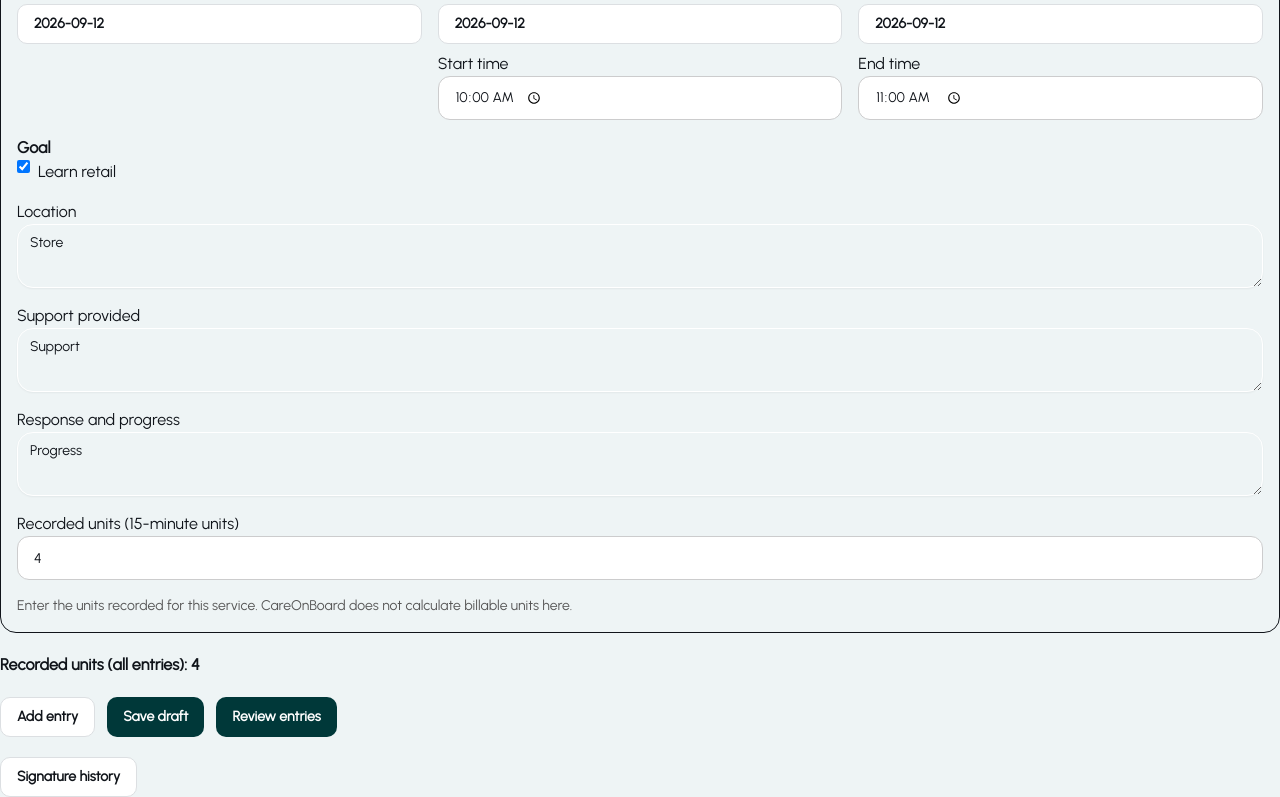
Test: clears consent and refetches context after a definitive signing conflict
(page scrolled)
Check: the text box showing "Support" is shown, box 17,328 -> 1263,392
Click the button "Review entries": point(277, 717) 216,697 -> 337,737
(page scrolled)
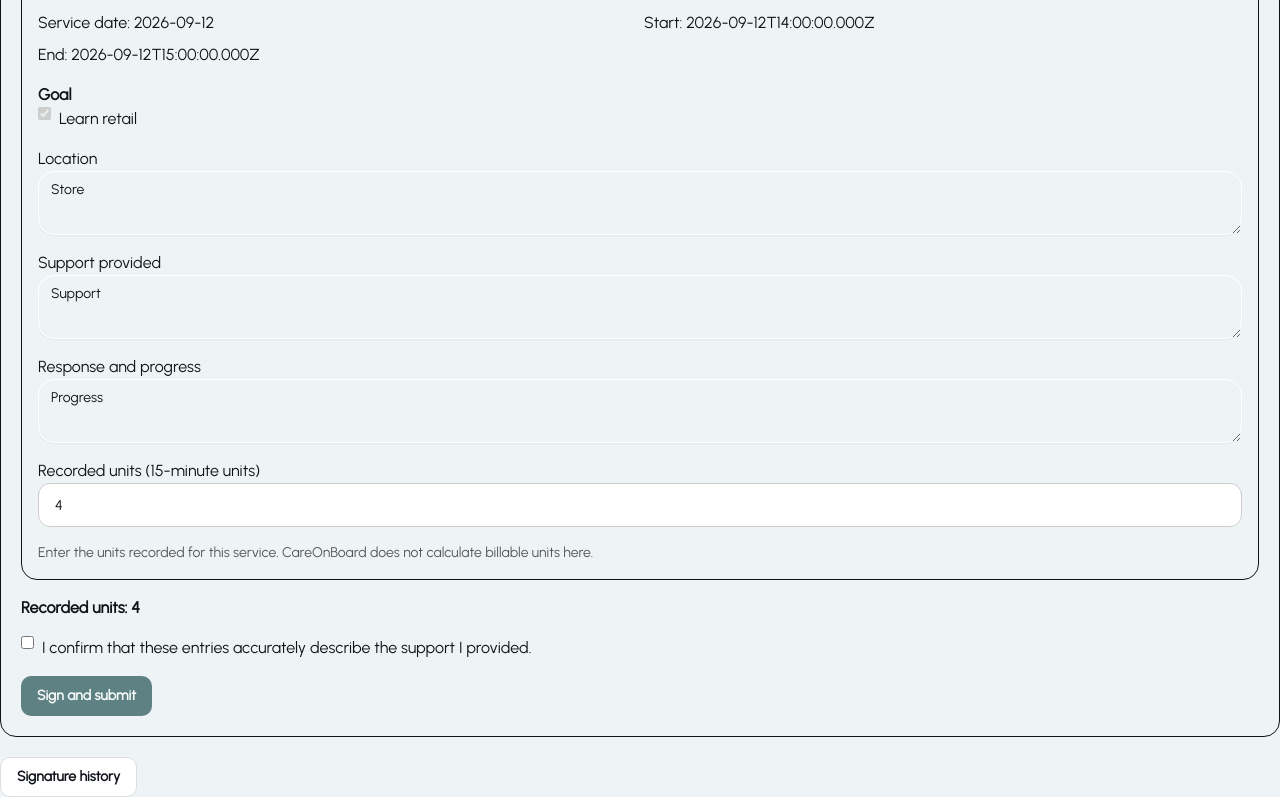
Click the checkbox labelled "I confirm that these entries accurately describe the support I provided.": point(28, 642) 21,636 -> 34,649
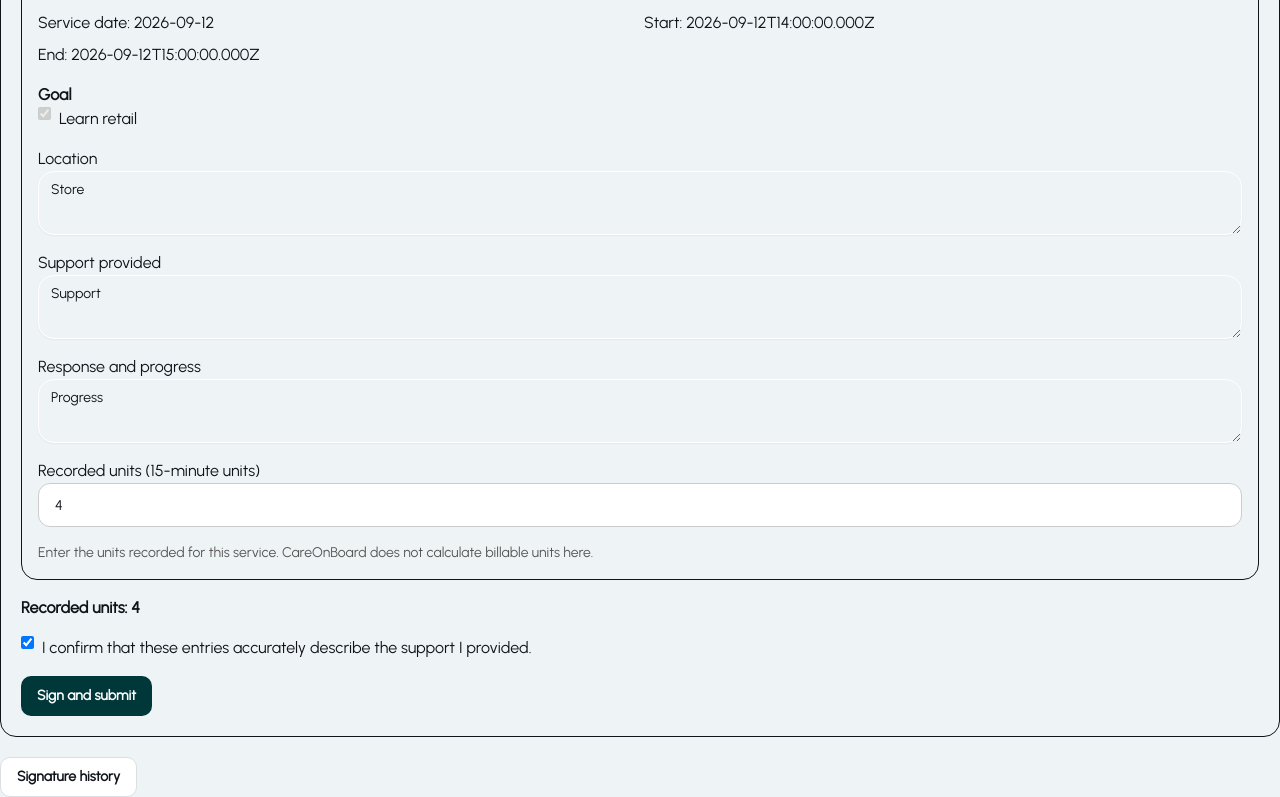
Click the button "Sign and submit": point(86, 696) 21,676 -> 152,716
(page scrolled)
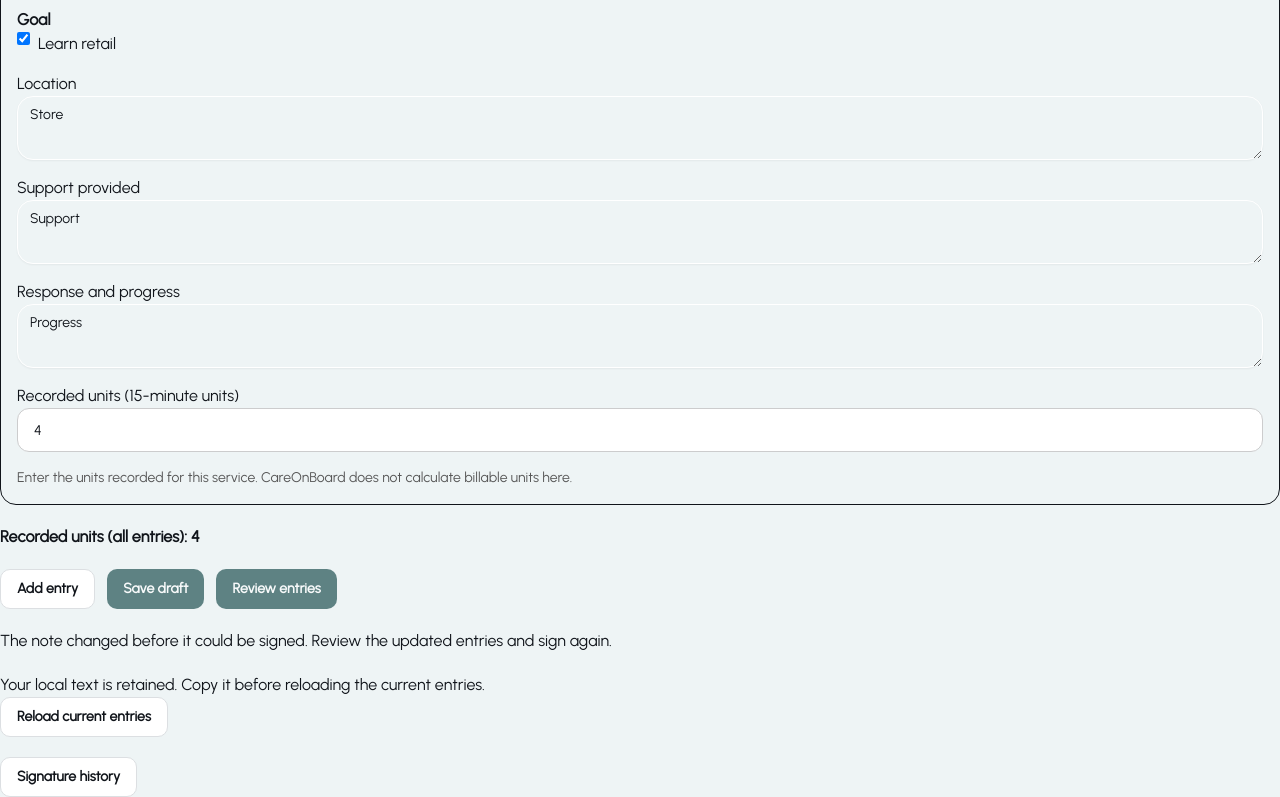
Check: the text box labelled "Support provided" holds "Support", box 17,200 -> 1263,264
Check: the button "Reload current entries" is shown, box 0,697 -> 168,737
Check: the button "Sign and submit" is gone
